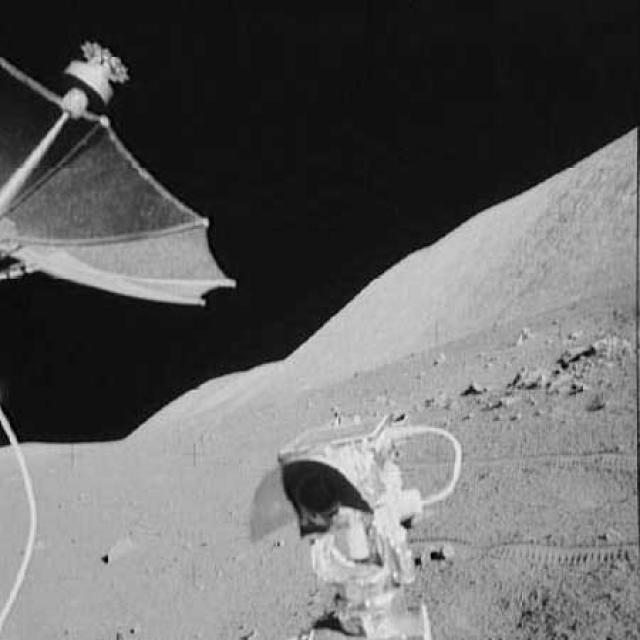artifact: (0, 38, 248, 312), (236, 412, 478, 638), (2, 406, 52, 638)
rock: (554, 330, 631, 364), (511, 362, 546, 388), (462, 372, 484, 398), (567, 378, 588, 397)
